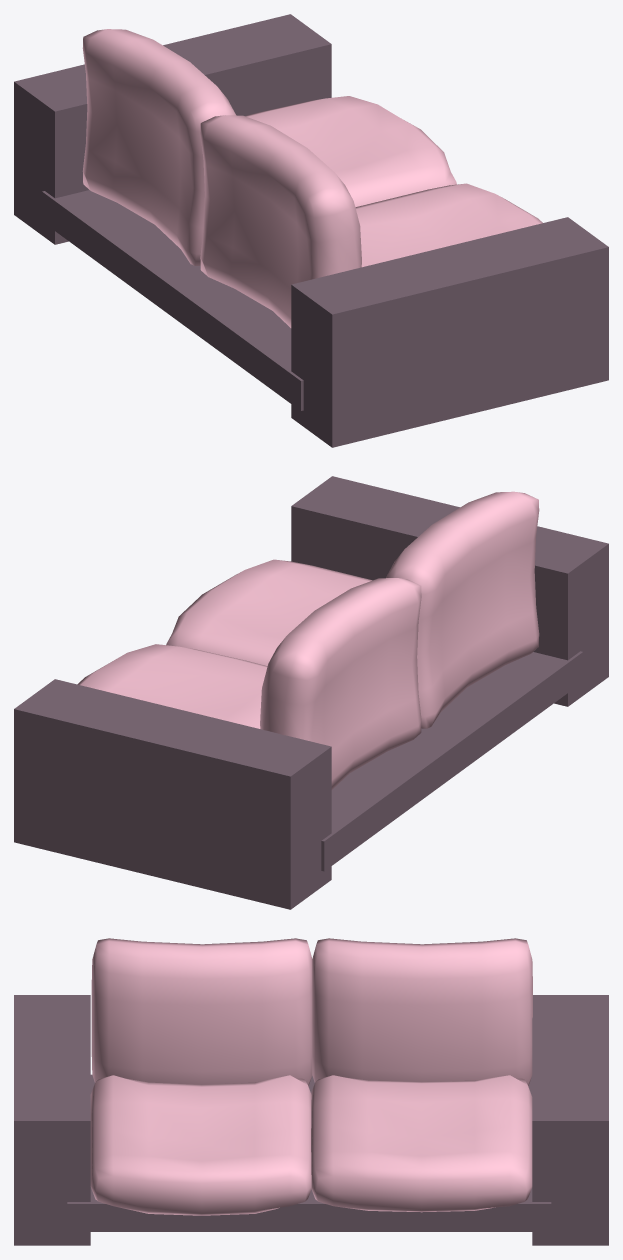
Rendered from Koltuk.fbx.
The picture shows the model from 3 angles, top to bottom: view 1: azimuth 30°, elevation 25°; view 2: azimuth 150°, elevation 25°; view 3: azimuth 270°, elevation 25°; orthographic projection. The views are drawn at different scales.
Visible parts, largest first — view 1: Cube.005, Cube.002, Cube.004, Cube.006, Cube, Cube.003, Cube.001; view 2: Cube.006, Cube.004, Cube.002, Cube.005, Cube, Cube.001, Cube.003; view 3: Cube.002, Cube.004, Cube.001, Cube.003, Cube.006, Cube.005, Cube.
Boxes of the visible parts, x1,y1,x2,y2 form: Cube.005: (291, 217, 608, 447); Cube.002: (200, 115, 361, 327); Cube.004: (82, 29, 235, 265); Cube.006: (14, 14, 331, 244); Cube: (42, 190, 303, 410); Cube.003: (245, 96, 456, 207); Cube.001: (355, 183, 542, 267); Cube.006: (14, 679, 331, 909); Cube.004: (260, 578, 421, 789); Cube.002: (386, 491, 539, 728); Cube.005: (291, 476, 608, 706); Cube: (321, 651, 583, 871); Cube.001: (166, 559, 372, 665); Cube.003: (77, 644, 267, 728); Cube.002: (91, 938, 312, 1086); Cube.004: (312, 938, 532, 1086); Cube.001: (90, 1075, 311, 1215); Cube.003: (311, 1075, 532, 1212); Cube.006: (532, 995, 608, 1245); Cube.005: (14, 995, 90, 1245); Cube: (67, 1074, 551, 1231).
Size of the model in its own units: 765 by 498 by 1353.
